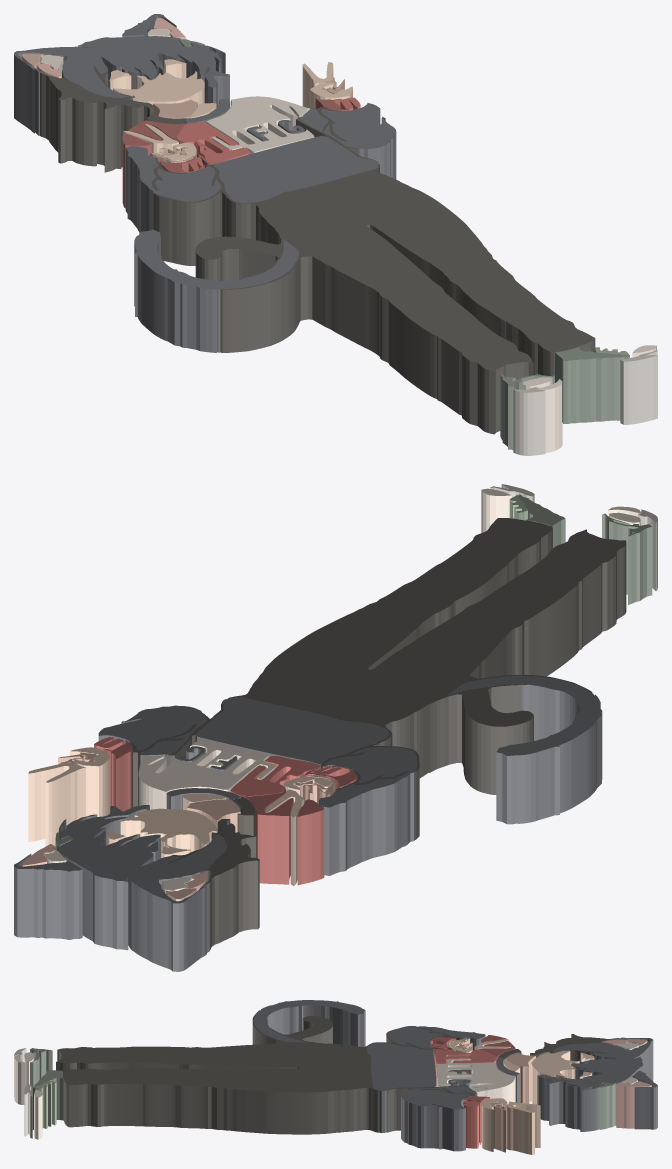
File: avatar.glb
3 renders of one model, top to bottom at view 1: azimuth 30°, elevation 25°; view 2: azimuth 150°, elevation 25°; view 3: azimuth 270°, elevation 25°, orthographic. The views are drawn at different scales.
Parts seen in each view (by area): view 1: Node1, Node9, Node11, Node2, Node8, Node40, Node12, Node17, Node10, Node38, Node39, Node23 (+6 smaller); view 2: Node1, Node9, Node11, Node12, Node8, Node13, Node2, Node17, Node26, Node10, Node43, Node23 (+10 smaller); view 3: Node1, Node9, Node10, Node11, Node8, Node17, Node26, Node12, Node23, Node13, Node37, Node47 (+16 smaller).
Part boxes in pixels (bbox=[...]): Node1: bbox=[154, 163, 595, 434]; Node9: bbox=[14, 36, 229, 135]; Node11: bbox=[134, 229, 298, 352]; Node2: bbox=[40, 72, 153, 172]; Node8: bbox=[211, 136, 378, 203]; Node40: bbox=[555, 347, 629, 423]; Node12: bbox=[125, 146, 220, 232]; Node17: bbox=[206, 96, 314, 153]; Node10: bbox=[296, 103, 396, 179]; Node38: bbox=[620, 350, 657, 424]; Node39: bbox=[513, 387, 545, 455]; Node23: bbox=[113, 71, 204, 105]; Node1: bbox=[228, 518, 626, 839]; Node9: bbox=[57, 805, 226, 971]; Node11: bbox=[447, 676, 602, 824]; Node12: bbox=[319, 747, 417, 875]; Node8: bbox=[196, 697, 389, 768]; Node13: bbox=[14, 854, 82, 939]; Node2: bbox=[200, 819, 259, 949]; Node17: bbox=[138, 739, 275, 809]; Node26: bbox=[28, 762, 85, 846]; Node10: bbox=[98, 705, 206, 762]; Node43: bbox=[232, 789, 293, 884]; Node23: bbox=[120, 808, 217, 857]; Node1: bbox=[56, 1010, 435, 1134]; Node9: bbox=[537, 1037, 653, 1131]; Node10: bbox=[401, 1085, 476, 1151]; Node11: bbox=[253, 1000, 365, 1046]; Node8: bbox=[367, 1042, 436, 1132]; Node17: bbox=[436, 1058, 515, 1104]; Node26: bbox=[508, 1101, 540, 1154]; Node12: bbox=[387, 1026, 485, 1050]; Node23: bbox=[531, 1050, 579, 1104]; Node13: bbox=[632, 1071, 657, 1129]; Node37: bbox=[489, 1101, 513, 1152]; Node47: bbox=[616, 1081, 651, 1128].
Bounding box in the file's own units: 57.52 × 10 × 139.
